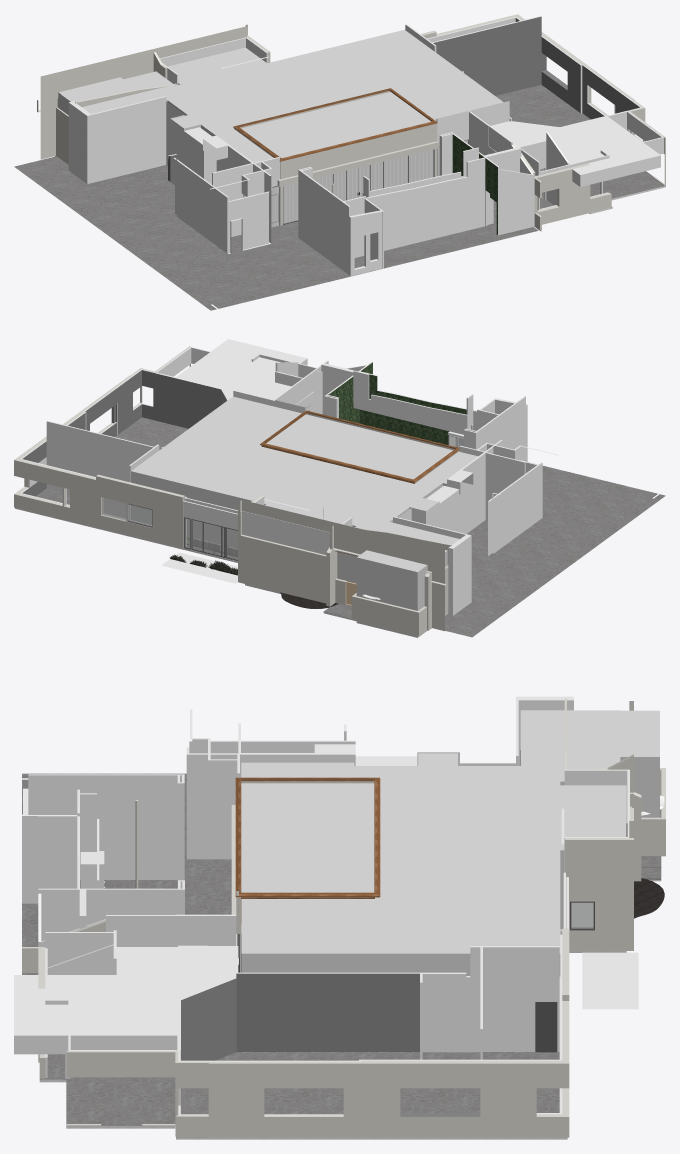
Rendered from registration_02.glb.
3 views of the same model, one above another, from view 1: azimuth 30°, elevation 25°; view 2: azimuth 150°, elevation 25°; view 3: azimuth 270°, elevation 25° (orthographic). The views are drawn at different scales.
Visible parts, largest first — view 1: wall_set, main_floor, available_moving_area, hub_wall_02, hub_wall_01, entrence_wall, patio_wall, inner_room_wall, rectangular_mullion.002, entry_wall, available_moving_area.005, available_moving_area.003 (+7 smaller); view 2: available_moving_area, wall_set, main_floor, patio_wall, outside_wall, hub_wall_02, entrence_wall, available_moving_area.004, audio_area_space, hub_wall_01, glass_wall, inner_room_parapetes (+7 smaller); view 3: available_moving_area, wall_set, outside_wall, entrence_wall, main_floor, patio_wall, hub_wall_02, available_moving_area.003, available_moving_area.005, available_moving_area.004, plane, inner_room_parapetes (+10 smaller).
Boxes of the visible parts, bbox=[...] form: wall_set: bbox=[298, 16, 663, 276]; main_floor: bbox=[14, 84, 665, 310]; available_moving_area: bbox=[167, 30, 503, 162]; hub_wall_02: bbox=[168, 135, 279, 253]; hub_wall_01: bbox=[68, 96, 166, 183]; entrence_wall: bbox=[487, 111, 660, 186]; patio_wall: bbox=[37, 24, 270, 164]; inner_room_wall: bbox=[234, 91, 438, 225]; rectangular_mullion.002: bbox=[283, 149, 434, 224]; entry_wall: bbox=[513, 144, 611, 230]; available_moving_area.005: bbox=[168, 47, 277, 92]; available_moving_area.003: bbox=[61, 71, 187, 114]; available_moving_area: bbox=[131, 396, 477, 558]; wall_set: bbox=[20, 347, 527, 561]; main_floor: bbox=[15, 417, 665, 637]; patio_wall: bbox=[238, 495, 448, 636]; outside_wall: bbox=[14, 346, 190, 548]; hub_wall_02: bbox=[447, 440, 558, 555]; entrence_wall: bbox=[156, 339, 313, 428]; available_moving_area.004: bbox=[356, 550, 427, 637]; audio_area_space: bbox=[242, 495, 352, 554]; hub_wall_01: bbox=[393, 516, 471, 615]; glass_wall: bbox=[184, 502, 237, 560]; inner_room_parapetes: bbox=[260, 410, 459, 482]; available_moving_area: bbox=[241, 766, 560, 976]; wall_set: bbox=[22, 774, 568, 1115]; outside_wall: bbox=[66, 928, 569, 1137]; entrence_wall: bbox=[14, 945, 238, 1113]; main_floor: bbox=[22, 773, 661, 1139]; patio_wall: bbox=[565, 701, 665, 950]; hub_wall_02: bbox=[186, 709, 355, 859]; available_moving_area.003: bbox=[520, 710, 620, 785]; available_moving_area.005: bbox=[526, 785, 626, 952]; available_moving_area.004: bbox=[597, 710, 659, 817]; plane: bbox=[582, 952, 638, 1009]; inner_room_parapetes: bbox=[235, 777, 380, 897].
Bounding box in the file's own units: 1519 × 389 × 1150.
238 materials, 141 textured.
